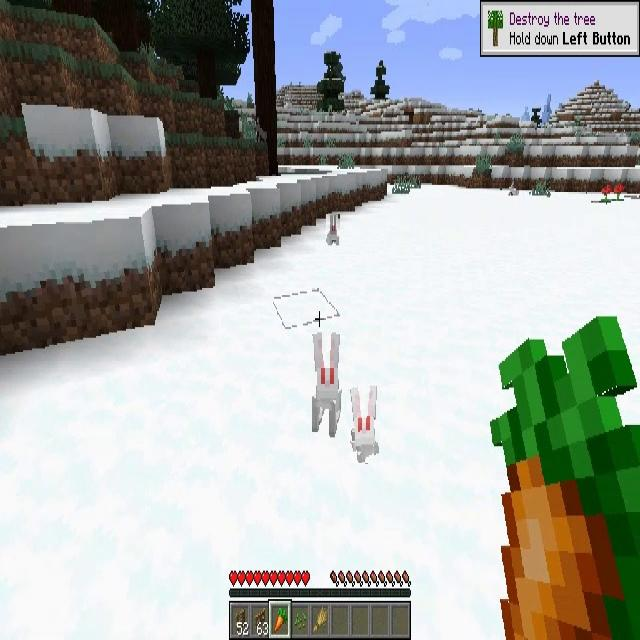rabbit: (312, 332, 344, 436), (347, 385, 380, 463), (326, 214, 340, 248)
